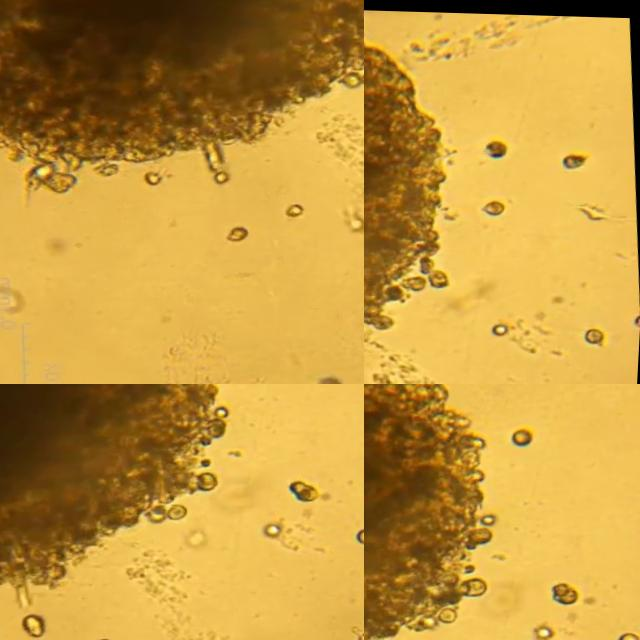cell: (292, 474, 321, 504), (554, 578, 581, 601), (26, 612, 50, 635), (511, 422, 535, 444), (486, 136, 507, 157), (581, 200, 609, 215), (483, 196, 506, 212), (563, 150, 587, 165), (189, 525, 209, 543), (233, 222, 253, 239), (535, 621, 554, 638), (147, 168, 166, 184), (590, 323, 606, 339), (327, 373, 347, 384), (622, 628, 640, 640), (268, 518, 283, 532), (292, 200, 309, 212), (495, 319, 509, 332), (103, 635, 115, 640), (637, 309, 640, 322)
tumor_mass: (364, 384, 496, 640)
